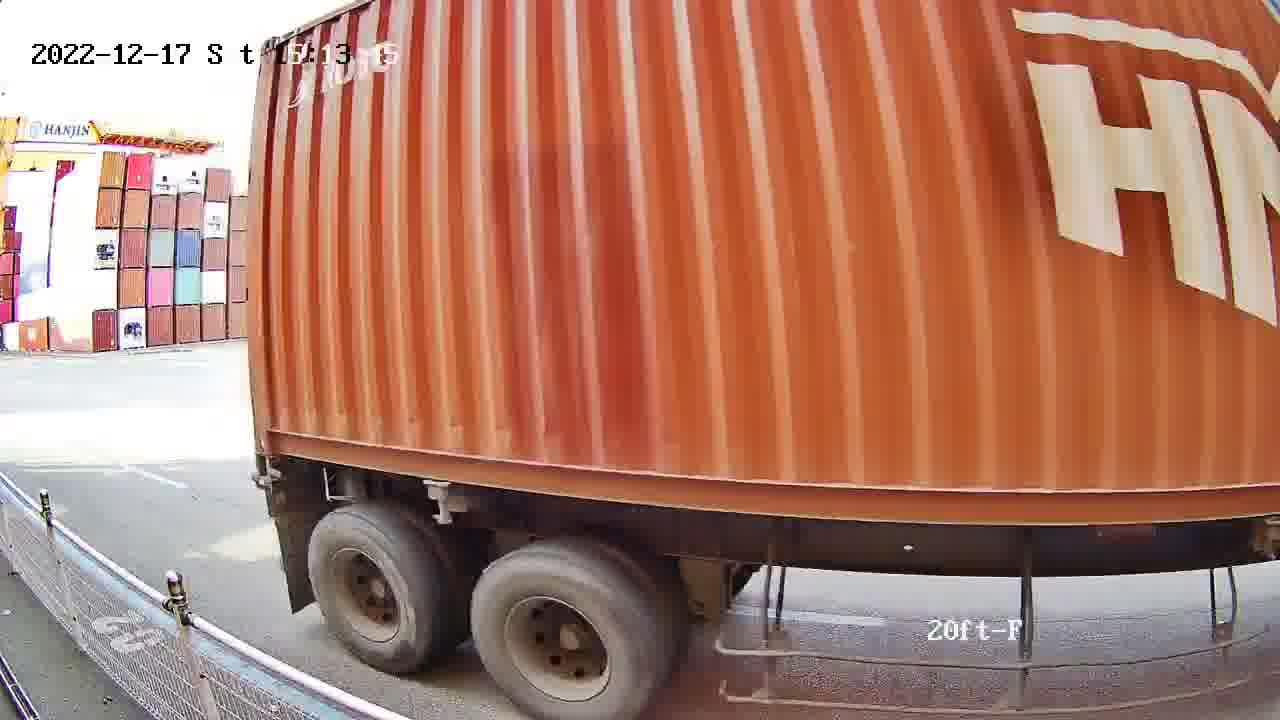Cone: (253, 455, 278, 491)
Hole_L: (253, 418, 292, 455)
Tire: (470, 554, 649, 715), (305, 514, 430, 671)
